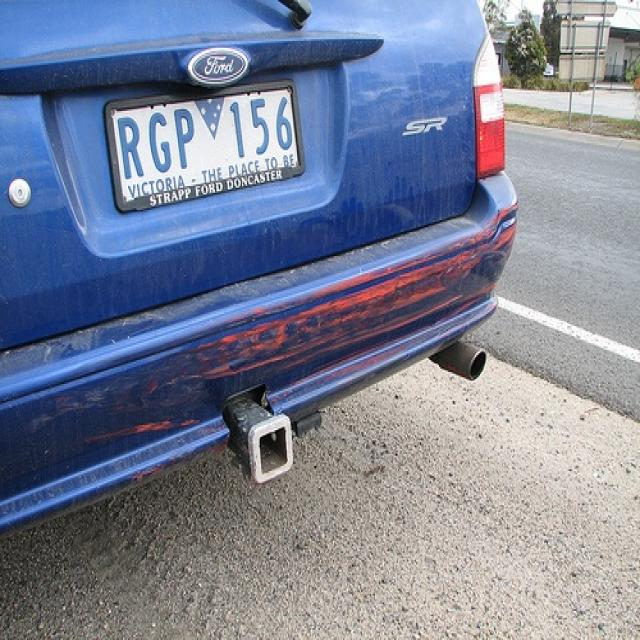car: (0, 0, 520, 536)
